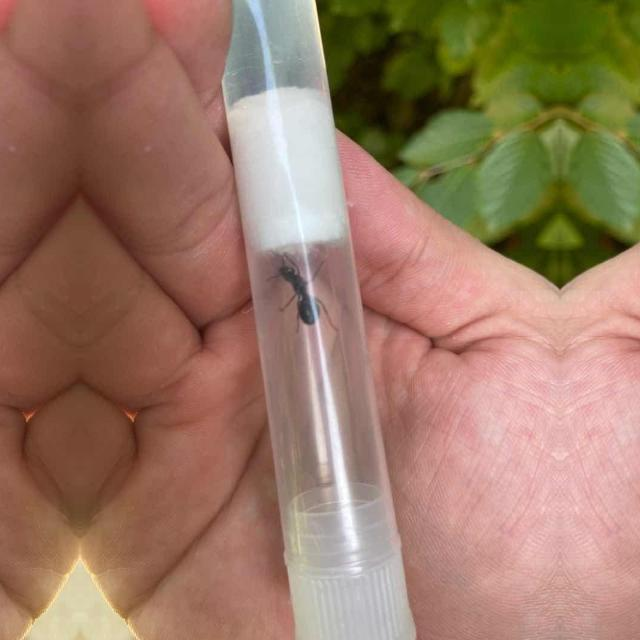Formica: (266, 252, 344, 336)
